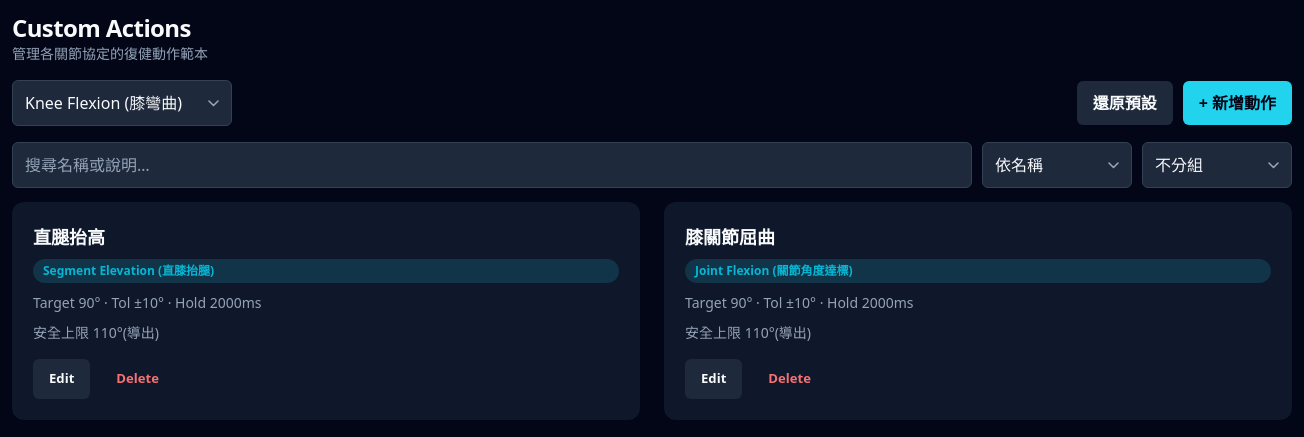
Scenario: ActionsView 搜尋 › 即時縮小清單
Type "直腿" into the search field with placeholder "搜尋名稱或說明…" at {"x": 492, "y": 165}, box [12,142,972,188]
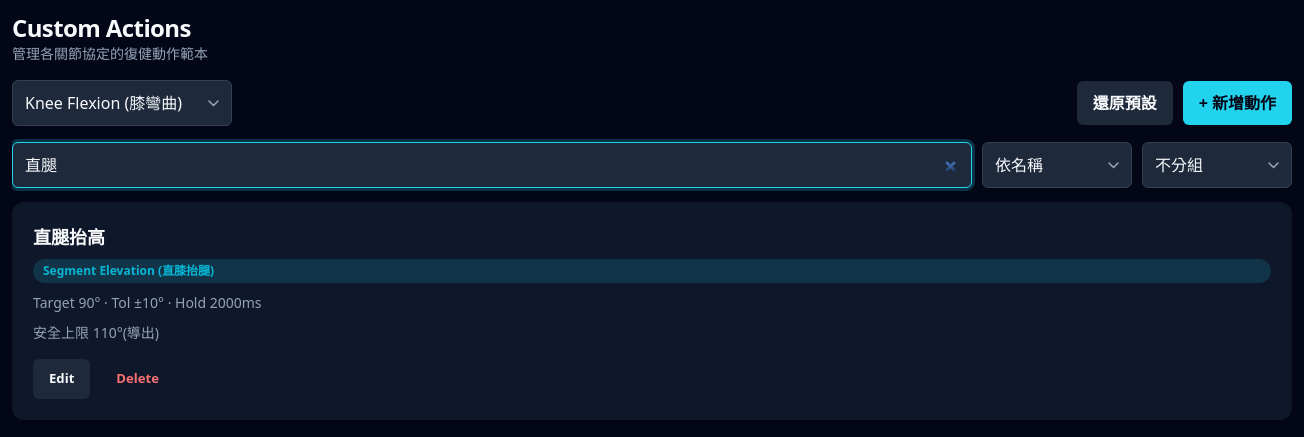
Expected: the heading "直腿抬高" is shown, [33,225,105,249]
Result: the heading "膝關節屈曲" is gone
